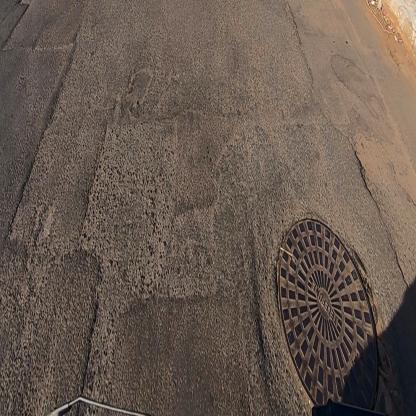manholes: (272, 206, 386, 416)
